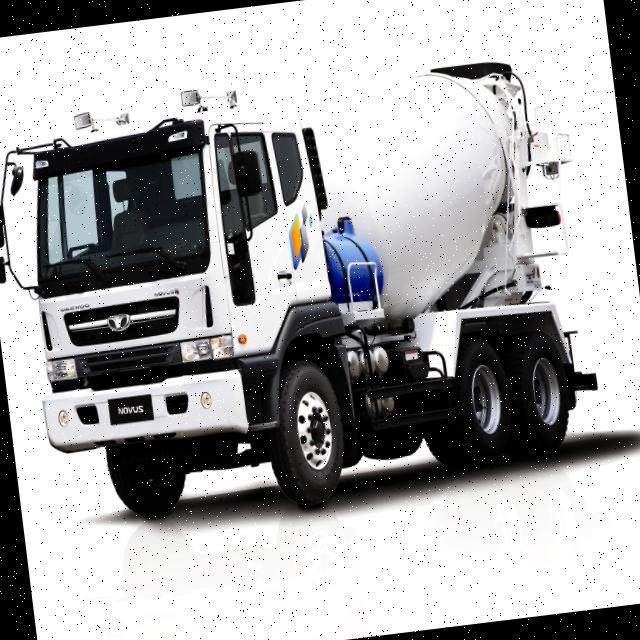Mixer Truck: (8, 53, 610, 537)
